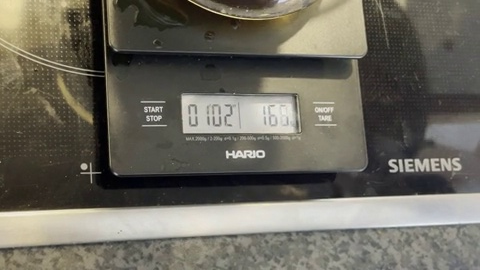display: (181, 94, 298, 134)
